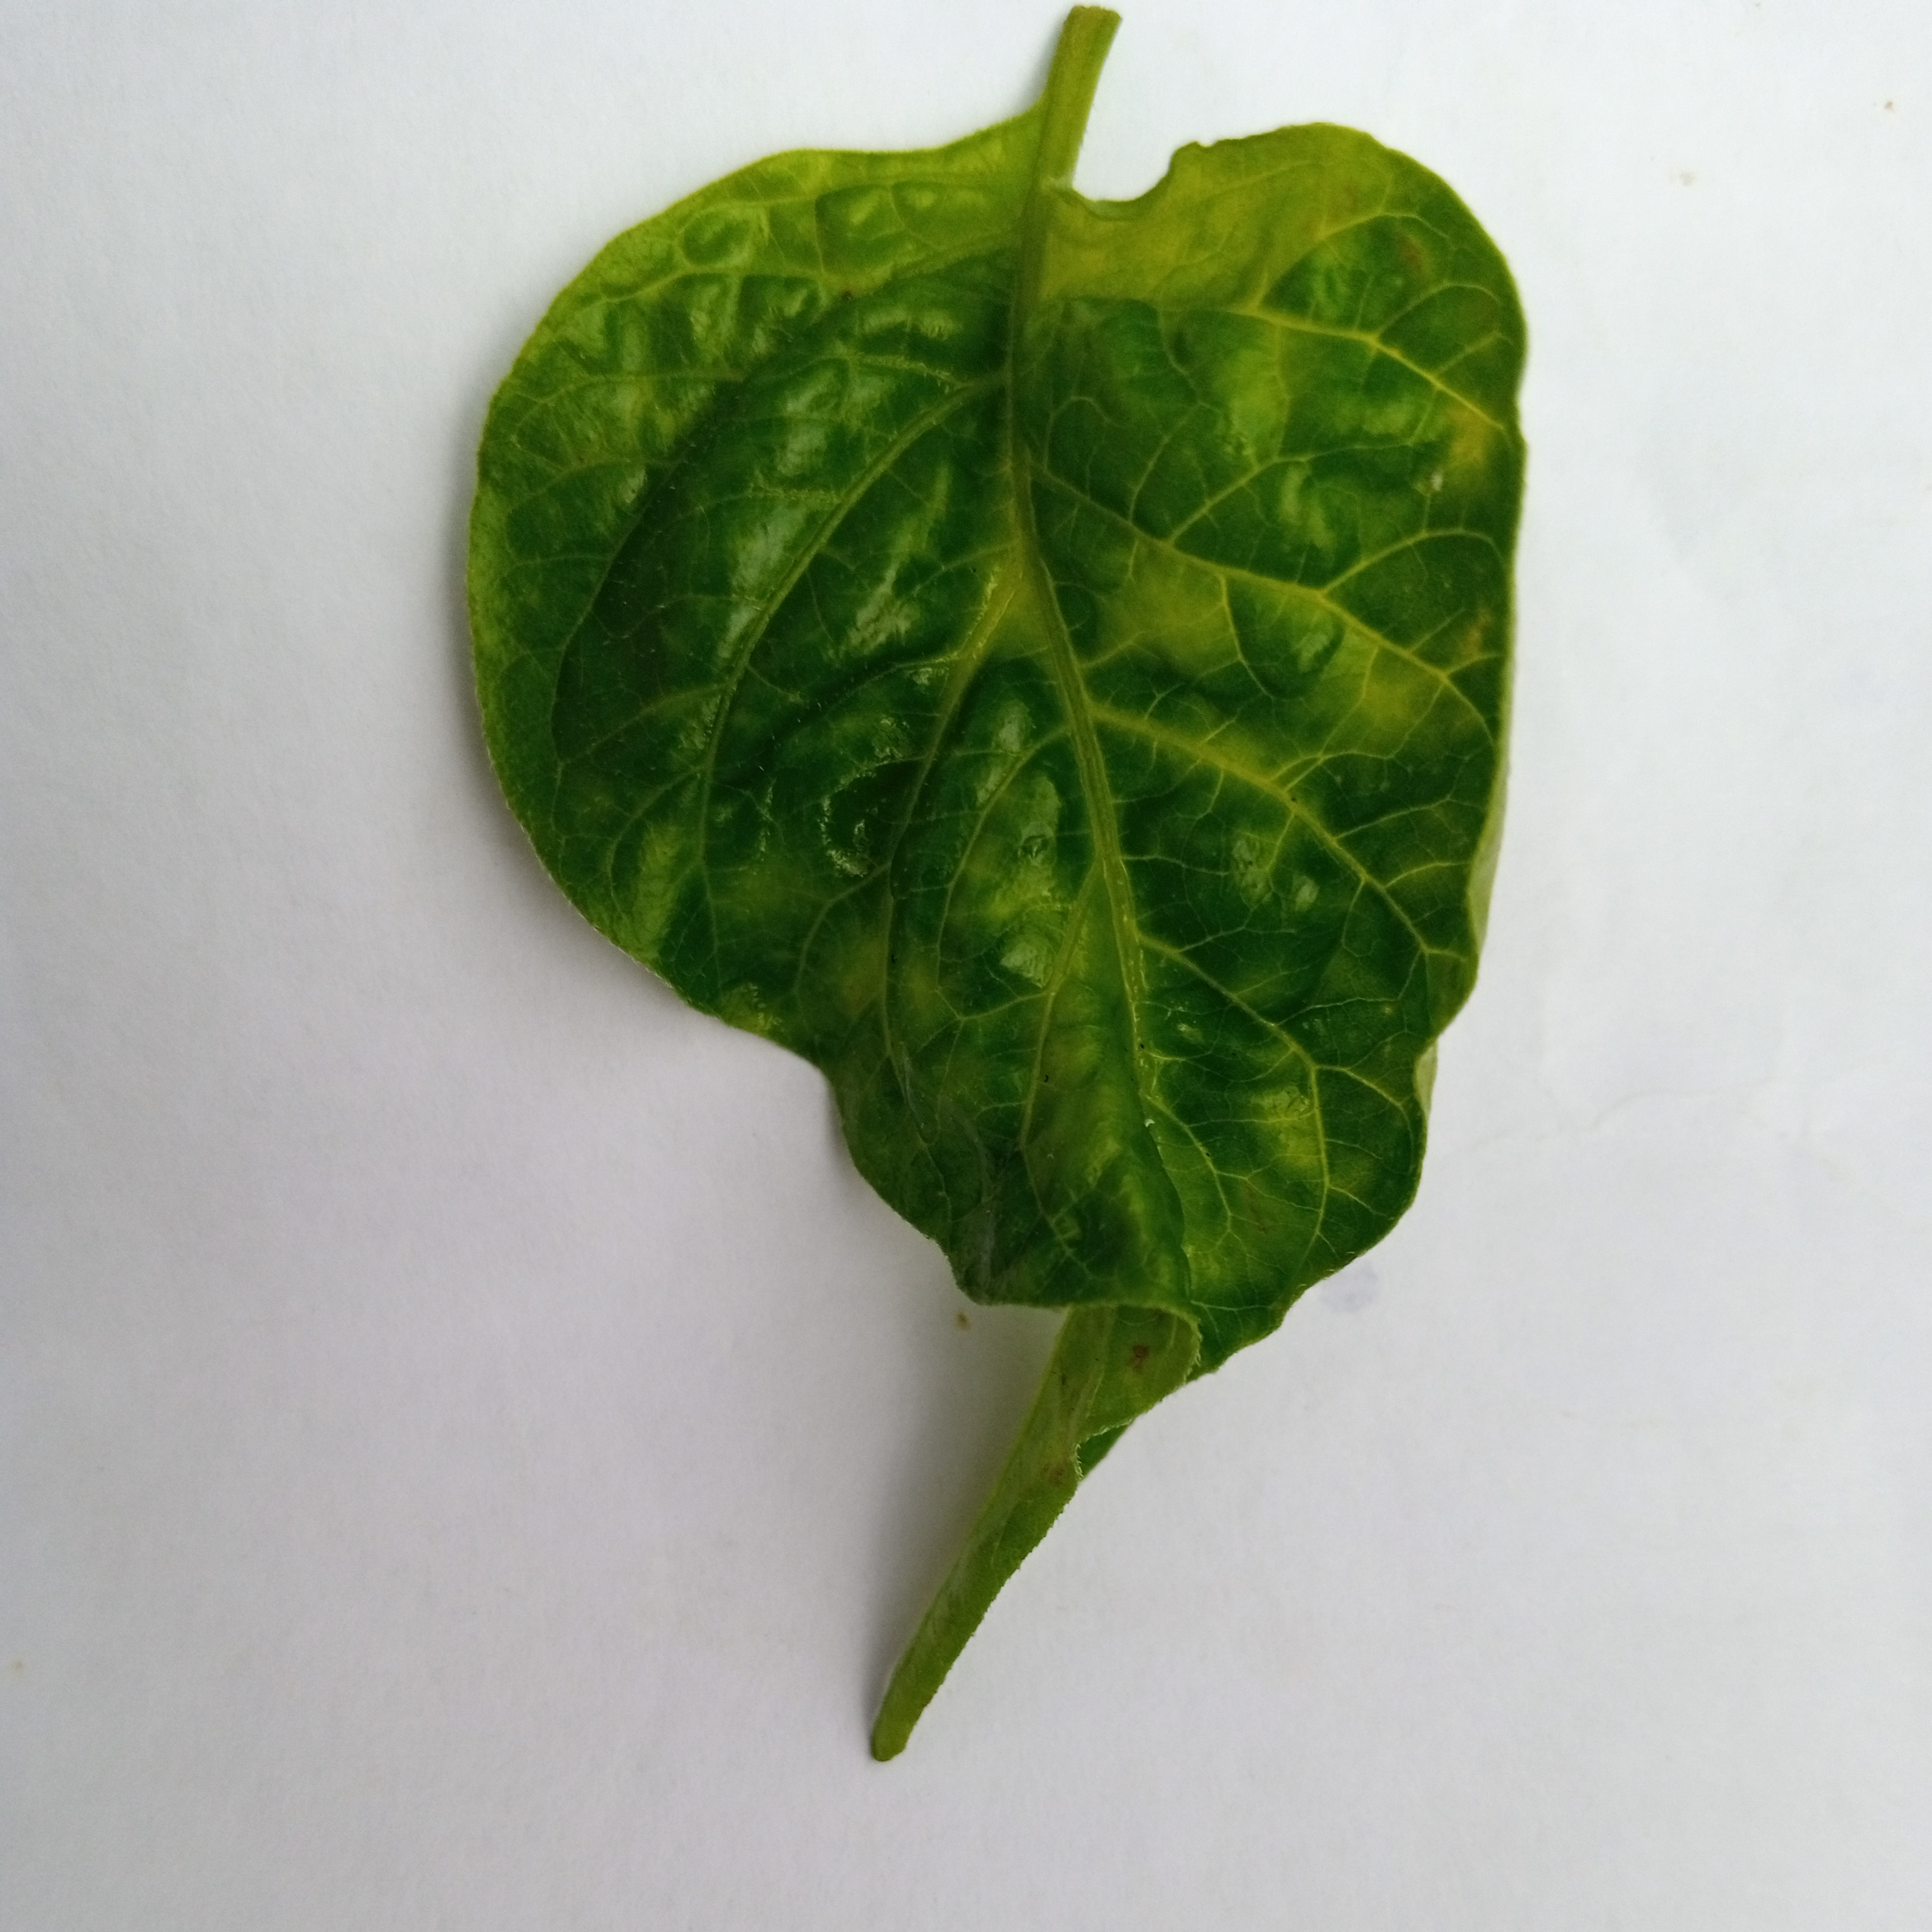Leaf: (377, 71, 1677, 1845)
